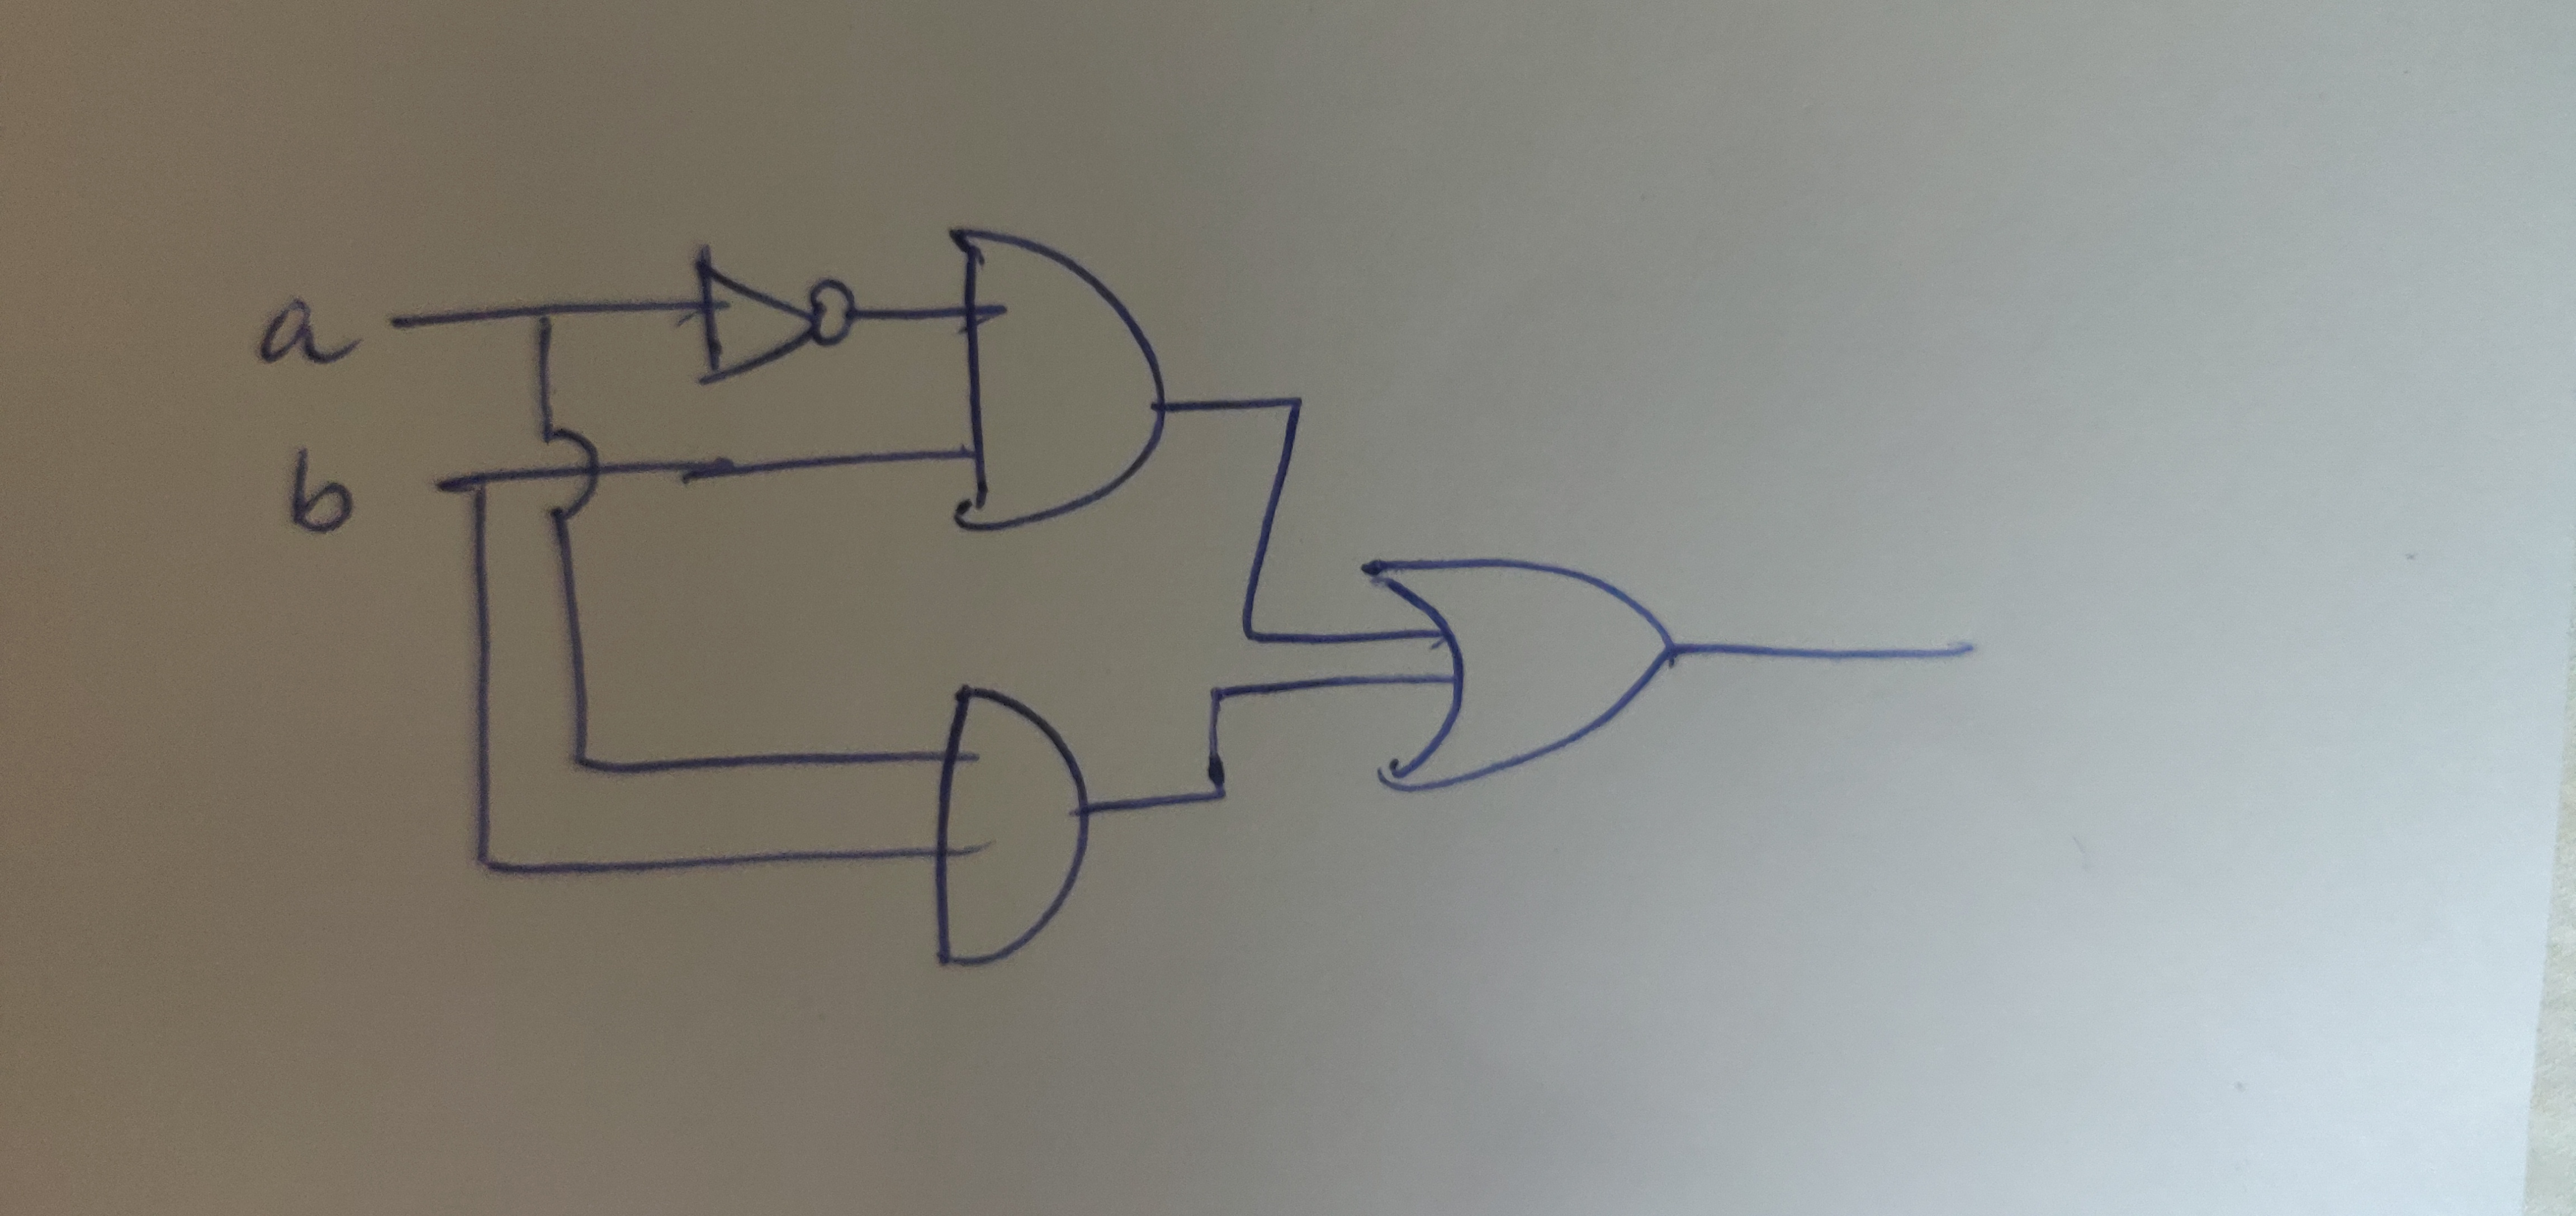and: (927, 207, 1212, 572), (904, 664, 1117, 989)
not: (664, 223, 887, 414)
or: (1314, 536, 1712, 808)
